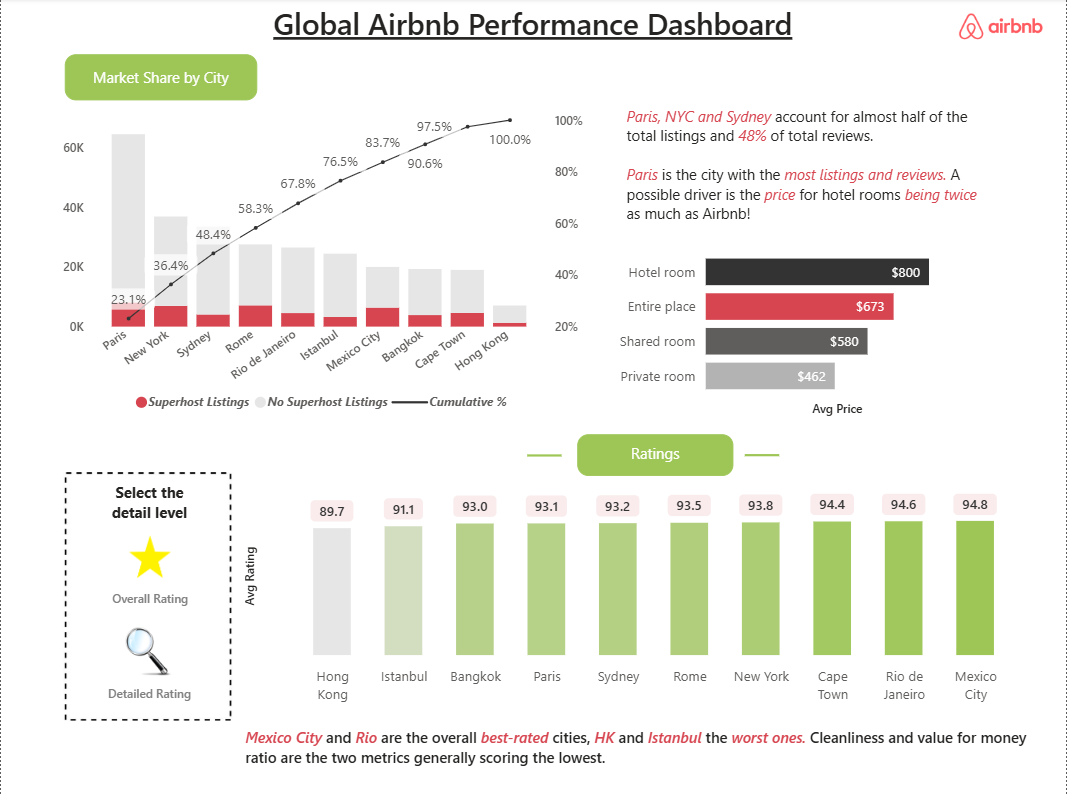

The page's visual inventory and layout, read from the dashboard file:
{"tool":"powerbi","page":{"name":"Ratings","canvas":[960,720],"ordinal":1},"visuals":[{"type":"textbox","box":[237.1,0,485.7,51.4],"z":0},{"type":"image","box":[841.4,0,118.6,51.4],"z":1000},{"type":"textbox","box":[57.5,51.2,173.8,41.2],"z":2000},{"type":"textbox","box":[558.8,92.5,330,117.5],"z":3000},{"type":"lineStackedColumnComboChart","fields":{"Category":["Listings.city"],"Y":["Listings.Superhost Listings","Listings.No Superhost Listings"],"Y2":["Listings.Cumulative %"]},"box":[51.2,95,480,287.5],"z":4000},{"type":"barChart","fields":{"Category":["Listings.room_type"],"Y":["Listings.Avg Price"]},"box":[546.2,210,331.2,172.5],"z":5000},{"type":"image","box":[51.2,360,163.8,360],"z":6000},{"type":"textbox","box":[520,393.3,141.1,37.8],"z":7000},{"type":"shape","box":[475,391.4,30.9,42.8],"z":8000},{"type":"shape","box":[671.1,391.1,31.1,42.2],"z":9000},{"type":"textbox","box":[90,431.2,87.5,51.2],"z":10000},{"type":"pivotTable","fields":{"Rows":["Listings.city"],"Values":["Listings.Accuracy","Listings.Cleanliness","Listings.Communication","Listings.Location","Listings.Value"]},"box":[215,433.8,712.5,210],"z":11000},{"type":"image","box":[103.8,482.5,60,41.2],"z":11006,"group":"g1"},{"type":"image","box":[110,567.5,47.5,45],"z":11007,"group":"g2"},{"type":"textbox","box":[90,526.3,88.8,27.5],"z":11013,"group":"g1"},{"type":"textbox","box":[90,612.5,87.5,27.5],"z":11014,"group":"g2"},{"type":"columnChart","fields":{"Category":["Listings.city"],"Y":["Listings.Avg Rating"]},"box":[215,436.2,712.5,207.5],"z":12000},{"type":"group","id":"g1","title":"Group 1","box":[90,482.5,88.8,71.2],"z":13000},{"type":"group","id":"g2","title":"Group 2","box":[90,567.5,87.5,72.5],"z":14000},{"type":"textbox","box":[215,652.5,721.2,46.2],"z":15000}]}

Visuals, with their boxes in screenshot pixels (x1, y1, x2, y2), scaled from the page's 960x720 canvas onto the 1067x796 screenshot:
textbox: 264 0 803 57
image: 935 0 1066 57
textbox: 64 57 257 102
textbox: 621 102 988 232
lineStackedColumnComboChart - Listings.city x Listings.Superhost Listings: 57 105 590 423
barChart - Listings.room_type x Listings.Avg Price: 607 232 975 423
image: 57 398 239 795
textbox: 578 435 735 477
shape: 528 433 562 480
shape: 746 432 780 479
textbox: 100 477 197 533
pivotTable - Listings.city x Listings.Accuracy: 239 480 1031 712
image: 115 533 182 579
image: 122 627 175 677
textbox: 100 582 199 612
textbox: 100 677 197 708
columnChart - Listings.city x Listings.Avg Rating: 239 482 1031 712
"Group 1" group: 100 533 199 612
"Group 2" group: 100 627 197 708
textbox: 239 721 1041 772
